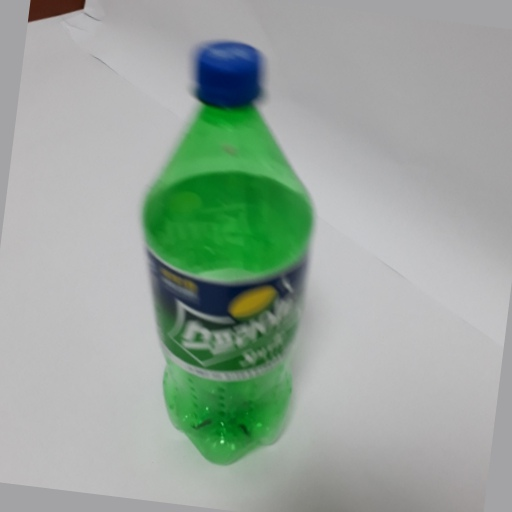Plastic_0: (137, 36, 320, 466)
